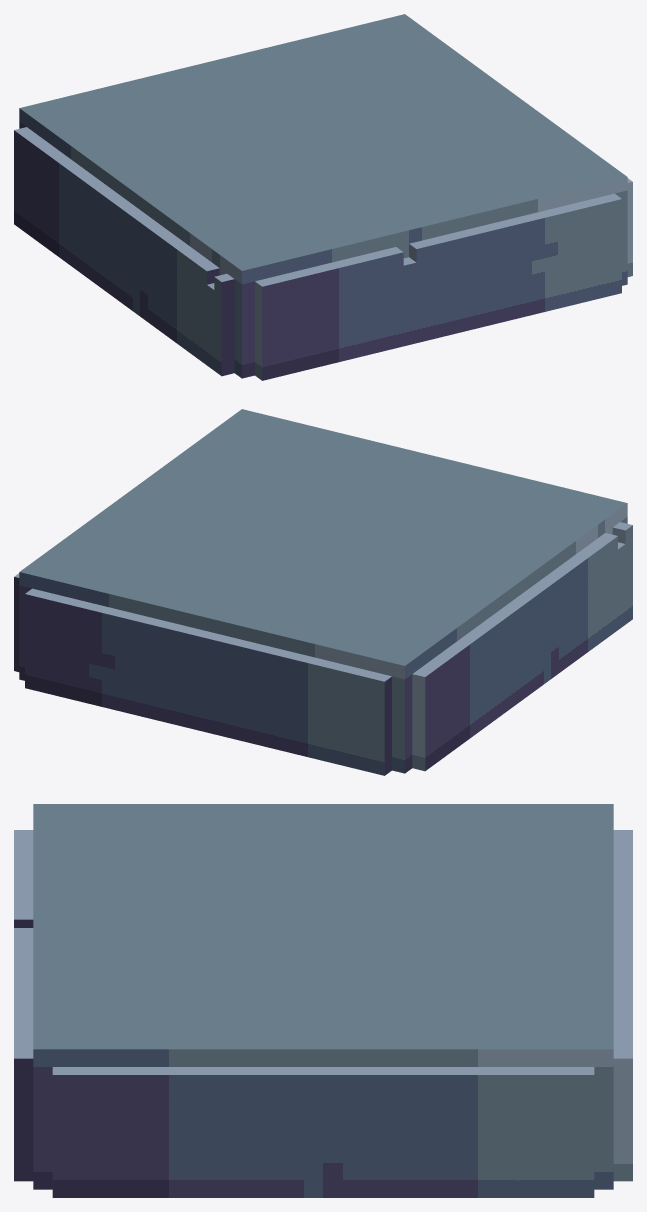
The model's file is nutbolt_baseao.fezao.glb.
3 views of the same model, one above another, from view 1: azimuth 30°, elevation 25°; view 2: azimuth 150°, elevation 25°; view 3: azimuth 270°, elevation 25° (orthographic). The views are drawn at different scales.
Parts seen in each view (by area): view 1: NUTBOLT_BASEAO; view 2: NUTBOLT_BASEAO; view 3: NUTBOLT_BASEAO.
Boxes of the visible parts, x1,y1,x2,y2 form: NUTBOLT_BASEAO: (14,14,632,380); NUTBOLT_BASEAO: (14,409,632,775); NUTBOLT_BASEAO: (14,804,632,1197).
Size of the model in its own units: 2 by 0.5 by 2.
Materials: 1 (1 with a texture image).
